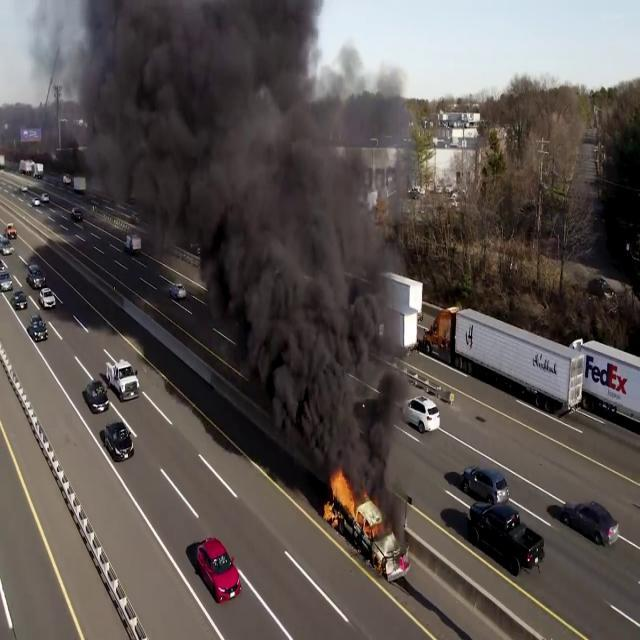Fire: (326, 463, 384, 541)
Smoke: (59, 0, 428, 450)
